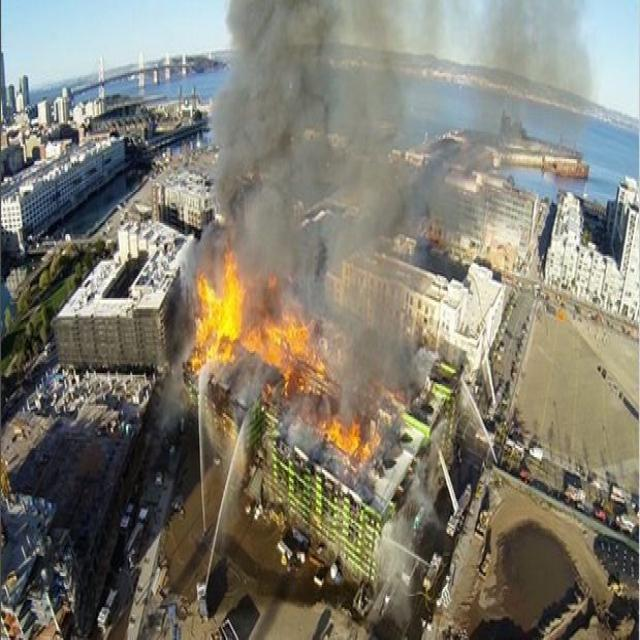Fire: (192, 266, 258, 376), (252, 307, 320, 392), (328, 413, 389, 479)
Smoke: (228, 11, 355, 299), (330, 125, 438, 382)
